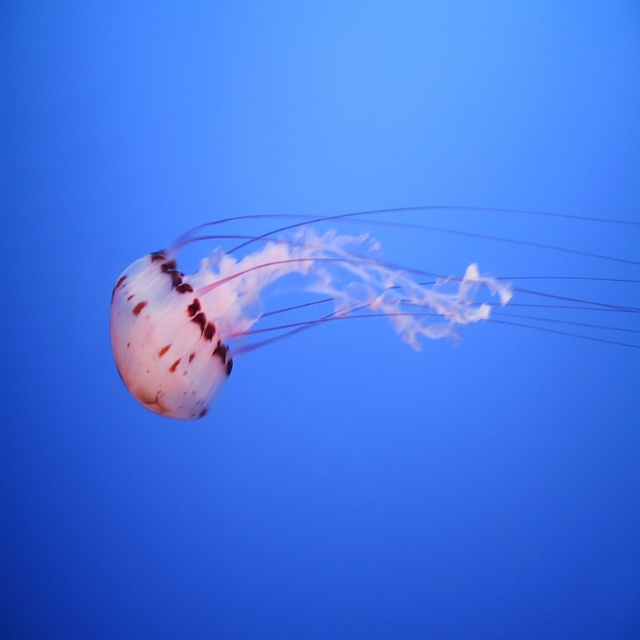Jellyfish: (86, 187, 585, 418)
